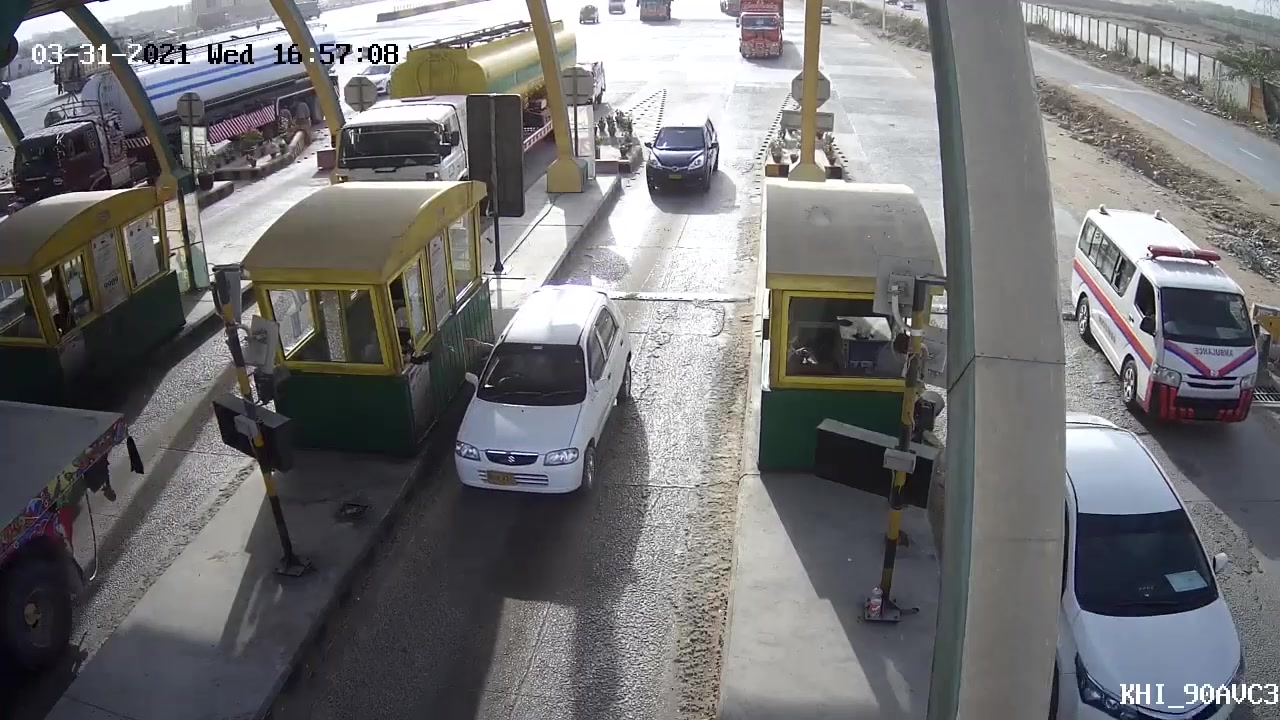F1: (450, 282, 638, 512), (640, 110, 722, 201)
